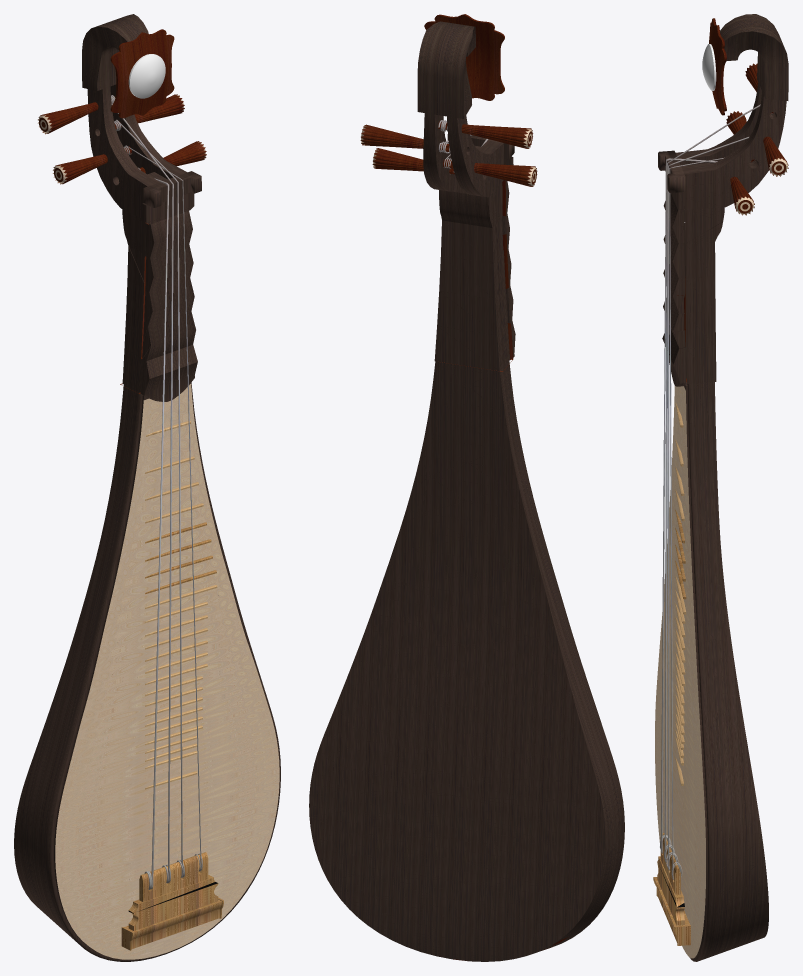
The model's file is 琵琶整体.FBX.
3 views of the same model, side by side, from view 1: azimuth 30°, elevation 25°; view 2: azimuth 150°, elevation 25°; view 3: azimuth 270°, elevation 25° (orthographic). The views are drawn at different scales.
Parts seen in each view (by area): view 1: 面板, 背板, 相, 对象038, 对象035, 对象040, 对象, 琴颈001, 子弦, 缠弦, 中弦, 老弦 (+7 smaller); view 2: 背板, 对象038, 琴颈001, 凤凰台, 对象040, 对象051, 对象001, 对象049, 对象003, 相; view 3: 背板, 面板, 对象038, 琴颈001, 相, 中弦, 子弦, 缠弦, 老弦, 凤凰台, 对象045, 对象035 (+6 smaller).
Boxes of the visible parts, box(x1,y1,x2,y2) form: 面板: box(55, 384, 279, 959); 背板: box(14, 382, 280, 961); 相: box(140, 192, 197, 401); 对象038: box(82, 14, 187, 218); 对象035: box(121, 883, 223, 950); 对象040: box(110, 29, 174, 118); 对象: box(129, 852, 215, 912); 琴颈001: box(122, 275, 144, 392); 子弦: box(111, 95, 173, 883); 缠弦: box(138, 167, 169, 889); 中弦: box(114, 119, 184, 877); 老弦: box(123, 145, 202, 871); 背板: box(309, 360, 624, 961); 对象038: box(417, 21, 503, 197); 琴颈001: box(434, 252, 509, 370); 凤凰台: box(439, 182, 503, 263); 对象040: box(424, 14, 504, 100); 对象051: box(438, 121, 532, 148); 对象001: box(360, 124, 449, 151); 对象049: box(443, 159, 536, 186); 对象003: box(372, 148, 454, 174); 相: box(503, 156, 515, 360); 背板: box(684, 356, 768, 961); 面板: box(655, 386, 705, 958); 对象038: box(675, 14, 788, 210); 琴颈001: box(685, 255, 716, 383); 相: box(662, 192, 685, 386); 中弦: box(666, 137, 748, 870); 子弦: box(664, 104, 774, 862); 缠弦: box(660, 158, 717, 853); 老弦: box(669, 157, 753, 879); 凤凰台: box(683, 207, 724, 277); 对象045: box(685, 210, 722, 278); 对象035: box(653, 862, 690, 945).
Size of the model in its own units: 260 by 853 by 114.
52 materials, 51 textured.
